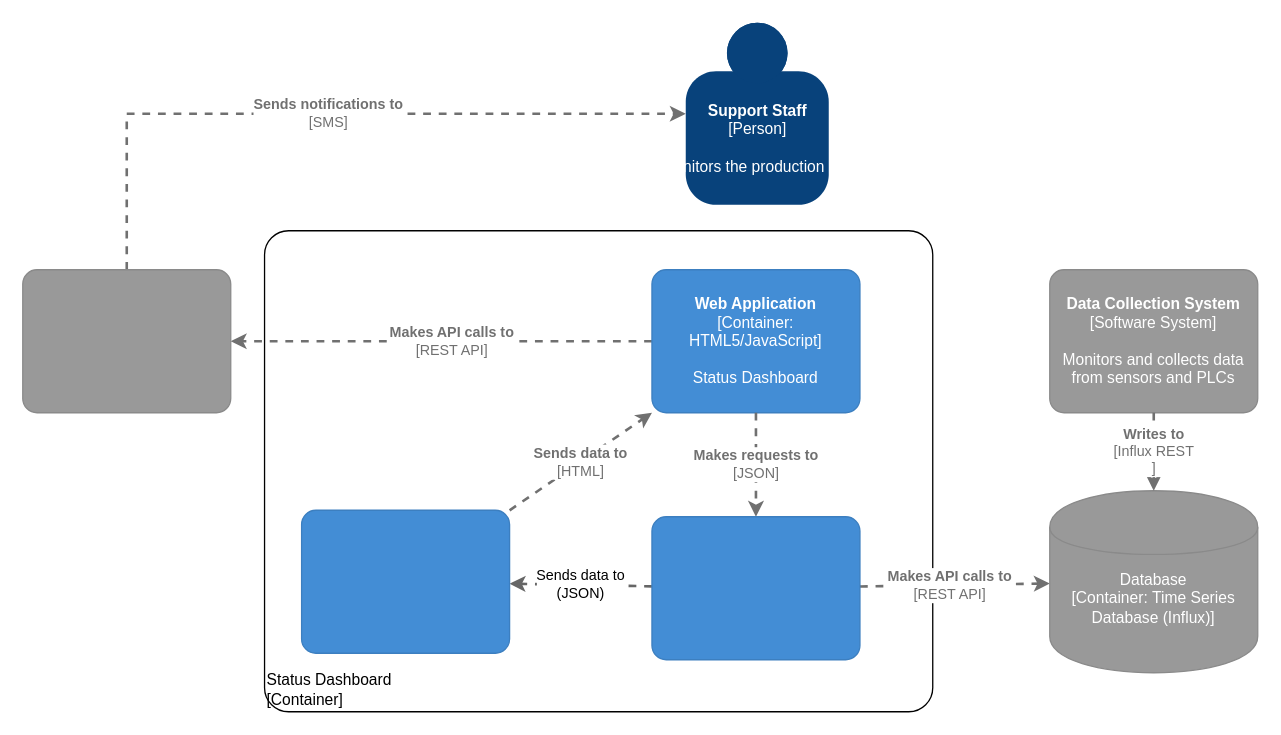
Some shapes in this 1281 by 735 pixel diagram are drawn without their labels. Here are the shapes that lost their labels. From the top down, the centre of each, then its label:
(126,340): Alert System [Software System] Sends SMS notifications of problems
(405,581): Visualisation Dashboard [Container: Graphics libaries]
(755,587): API Service [Container: Java/Python]
